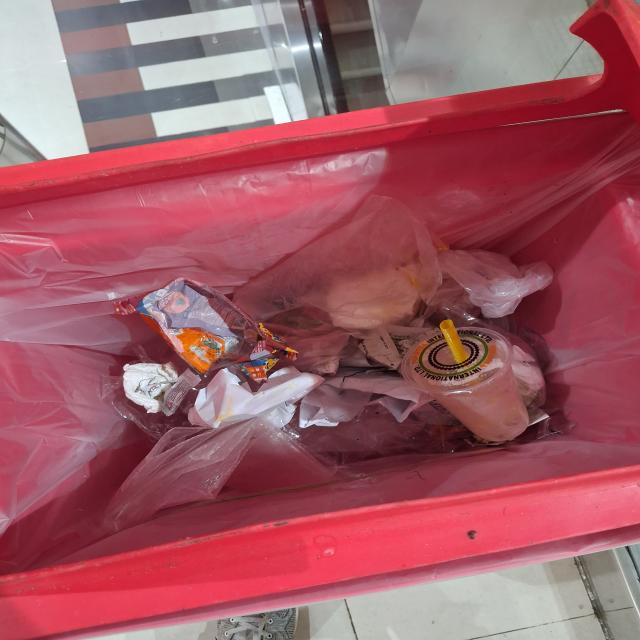paper: (192, 370, 316, 428), (119, 358, 175, 415)
plastic: (403, 328, 536, 446)
